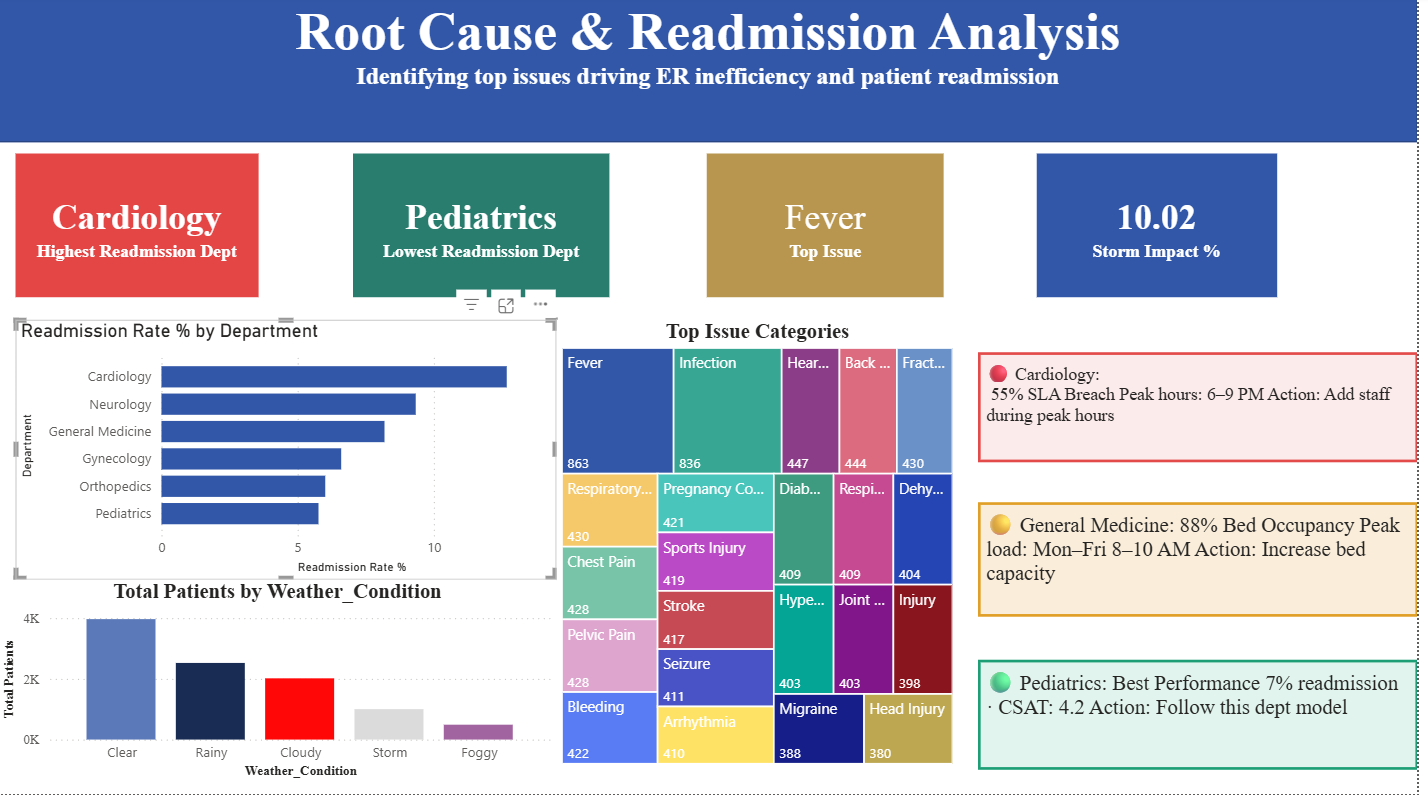

The dashboard page shown, as its layout file describes it:
{"tool":"powerbi","page":{"name":"Root Cause Analysis","canvas":[1280,720],"ordinal":3},"visuals":[{"type":"card","fields":{"Values":["Hospital_ER_Dataset.Highest Readmission Dept"]},"box":[16.2,141.8,218.9,129.4],"z":0},{"type":"card","fields":{"Values":["Hospital_ER_Dataset.Lowest Readmission Dept"]},"box":[319.7,141.8,231.4,129.4],"z":1000},{"type":"card","fields":{"Values":["Hospital_ER_Dataset.Top Issue"]},"box":[639.4,141.8,214,129.4],"z":2000},{"type":"card","fields":{"Values":["Hospital_ER_Dataset.Storm Impact %"]},"box":[936.7,141.8,216.4,129.4],"z":3000},{"type":"clusteredBarChart","fields":{"Category":["Hospital_ER_Dataset.Department"],"Y":["Hospital_ER_Dataset.Readmission Rate %"]},"box":[16.2,292.3,487.6,233.9],"z":4000},{"type":"treemap","title":"Top Issue Categories","fields":{"Group":["Hospital_ER_Dataset.Issue_Category"],"Values":["CountNonNull(Hospital_ER_Dataset.Patient_ID)"]},"box":[503.8,292.3,362,405.5],"z":5000},{"type":"clusteredColumnChart","fields":{"Category":["Hospital_ER_Dataset.Weather_Condition"],"Y":["Hospital_ER_Dataset.Total Patients"]},"box":[0,526.2,503.8,184.1],"z":6000},{"type":"shape","box":[0,0,1280,131.9],"z":7000},{"type":"textbox","box":[883.2,320.9,396.8,99.5],"z":8000},{"type":"textbox","box":[0,0,1280,131.9],"z":9000},{"type":"textbox","box":[883.2,456.5,396.8,103.2],"z":10000},{"type":"textbox","box":[883.2,598.3,396.8,99.5],"z":11000}]}

Visuals, with their boxes in screenshot pixels (x1, y1, x2, y2), scaled from the page's 1280x720 canvas onto the 1428x797 screenshot:
card - Hospital_ER_Dataset.Highest Readmission Dept: Rect(18, 157, 262, 300)
card - Hospital_ER_Dataset.Lowest Readmission Dept: Rect(357, 157, 615, 300)
card - Hospital_ER_Dataset.Top Issue: Rect(713, 157, 952, 300)
card - Hospital_ER_Dataset.Storm Impact %: Rect(1045, 157, 1286, 300)
clusteredBarChart - Hospital_ER_Dataset.Department x Hospital_ER_Dataset.Readmission Rate %: Rect(18, 324, 562, 582)
"Top Issue Categories" treemap: Rect(562, 324, 966, 772)
clusteredColumnChart - Hospital_ER_Dataset.Weather_Condition x Hospital_ER_Dataset.Total Patients: Rect(0, 582, 562, 786)
shape: Rect(0, 0, 1427, 146)
textbox: Rect(985, 355, 1427, 465)
textbox: Rect(0, 0, 1427, 146)
textbox: Rect(985, 505, 1427, 620)
textbox: Rect(985, 662, 1427, 772)
